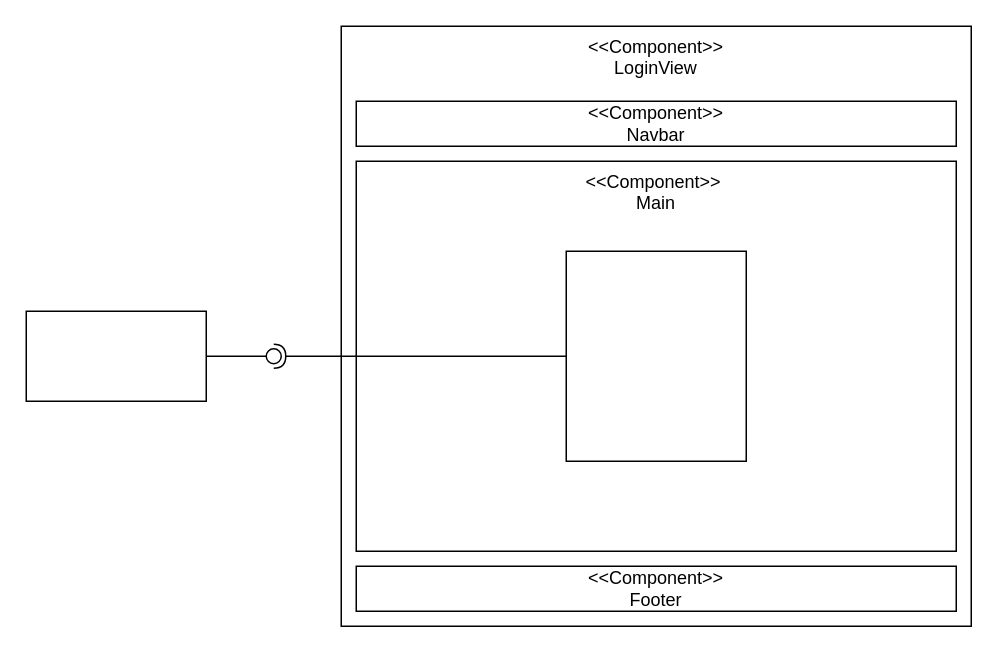
This 998x653 diagram has some shape labels left out. Here are the shapes that lost their labels. From the top down, the centre of each, then its label:
At [115,355]: "API Metamask".
At [655,355]: "<<Component>> Login".
